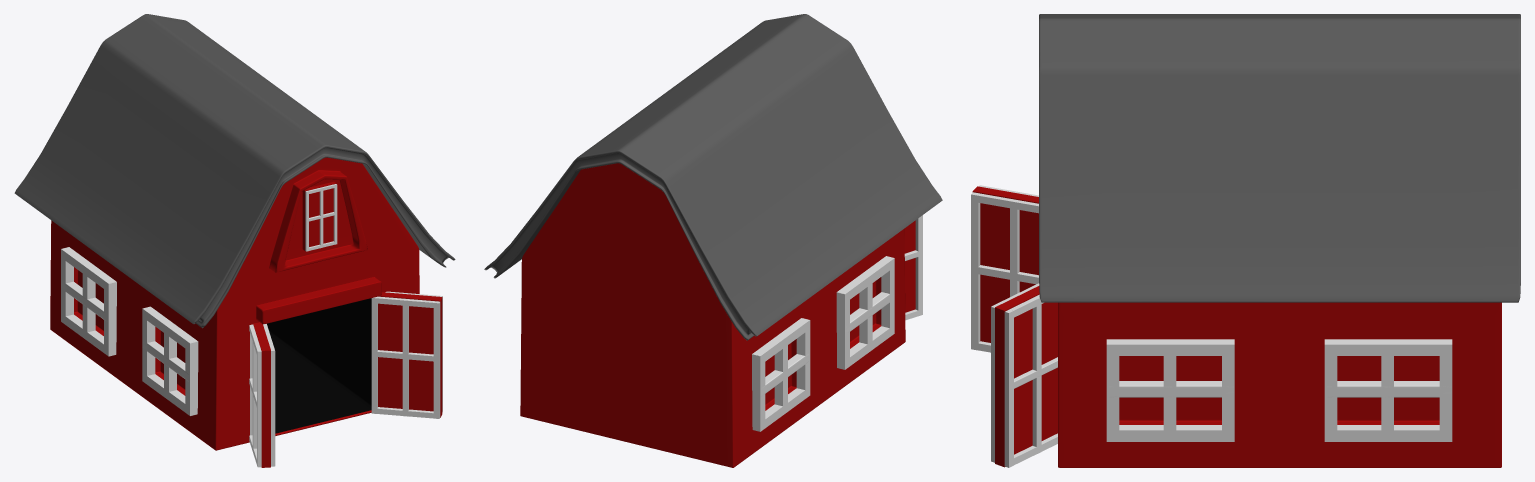
The model's file is Env_Barn_Mo_Nov13.fbx.
3 renders of one model, left to right at view 1: azimuth 30°, elevation 25°; view 2: azimuth 150°, elevation 25°; view 3: azimuth 270°, elevation 25°, orthographic. The views are drawn at different scales.
Visible parts, largest first — view 1: BarnRoof, Barn, Door (×3), DoorPart011, WindowPart06, WindowPart05, DoorPart012, DoorPart08, WindowPart02, WindowPart01, WindowPart08, WindowPart010 (+9 smaller); view 2: BarnRoof, Barn, WindowPart07, WindowPart08, Door, WindowPart01, WindowPart02, WindowPart05, WindowPart06, WindowPart010, DoorPart01, WindowPart09 (+4 smaller); view 3: BarnRoof, Barn, Door (×2), WindowPart01, WindowPart02, WindowPart03, WindowPart04, WindowPart011, WindowPart012, DoorPart02, DoorPart013, DoorPart05 (+10 smaller).
Part boxes in pixels (left/top/right/bottom): BarnRoof: left=14, top=14, right=455, bottom=328; Barn: left=50, top=157, right=419, bottom=450; Door (×3): left=253, top=181, right=442, bottom=467; DoorPart011: left=433, top=301, right=440, bottom=418; WindowPart06: left=185, top=340, right=198, bottom=415; WindowPart05: left=104, top=281, right=116, bottom=356; DoorPart012: left=371, top=297, right=377, bottom=413; DoorPart08: left=402, top=300, right=408, bottom=416; WindowPart02: left=61, top=247, right=115, bottom=291; WindowPart01: left=142, top=306, right=196, bottom=350; WindowPart08: left=142, top=309, right=155, bottom=384; WindowPart010: left=82, top=266, right=95, bottom=340; BarnRoof: left=484, top=14, right=942, bottom=340; Barn: left=520, top=163, right=905, bottom=467; WindowPart07: left=752, top=353, right=765, bottom=431; WindowPart08: left=836, top=291, right=849, bottom=369; Door: left=904, top=220, right=915, bottom=312; WindowPart01: left=837, top=256, right=893, bottom=301; WindowPart02: left=752, top=318, right=809, bottom=363; WindowPart05: left=796, top=318, right=810, bottom=395; WindowPart06: left=881, top=256, right=894, bottom=336; WindowPart010: left=774, top=336, right=787, bottom=414; DoorPart01: left=915, top=215, right=922, bottom=315; WindowPart09: left=859, top=275, right=872, bottom=352; BarnRoof: left=1039, top=14, right=1520, bottom=302; Barn: left=1058, top=302, right=1501, bottom=467; Door (×2): left=972, top=186, right=1057, bottom=467; WindowPart01: left=1109, top=339, right=1234, bottom=355; WindowPart02: left=1326, top=339, right=1451, bottom=355; WindowPart03: left=1326, top=425, right=1451, bottom=441; WindowPart04: left=1109, top=425, right=1234, bottom=441; WindowPart011: left=1109, top=381, right=1233, bottom=397; WindowPart012: left=1327, top=381, right=1451, bottom=397; DoorPart02: left=1004, top=309, right=1013, bottom=467; DoorPart013: left=971, top=192, right=980, bottom=350; DoorPart05: left=1032, top=298, right=1041, bottom=453.
Bounding box in the file's own units: 32.01 × 33.24 × 43.37.
